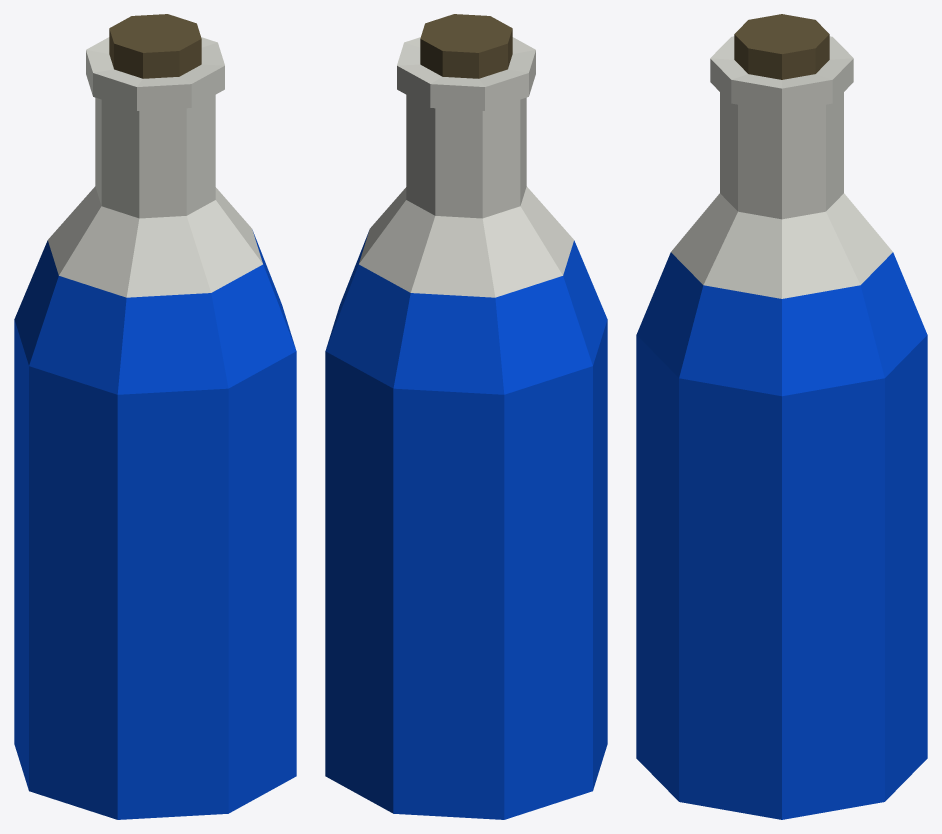
Rendered from bluebottle.fbx.
3 renders of one model, left to right at view 1: azimuth 30°, elevation 25°; view 2: azimuth 150°, elevation 25°; view 3: azimuth 270°, elevation 25°, orthographic.
Parts seen in each view (by area): view 1: Cylinder; view 2: Cylinder; view 3: Cylinder.
Part boxes in pixels (x1,y1,x2,y2): Cylinder: (14, 14, 296, 819); Cylinder: (325, 14, 607, 819); Cylinder: (636, 14, 927, 819).
Bounding box in the file's own units: 200 × 549 × 200.
